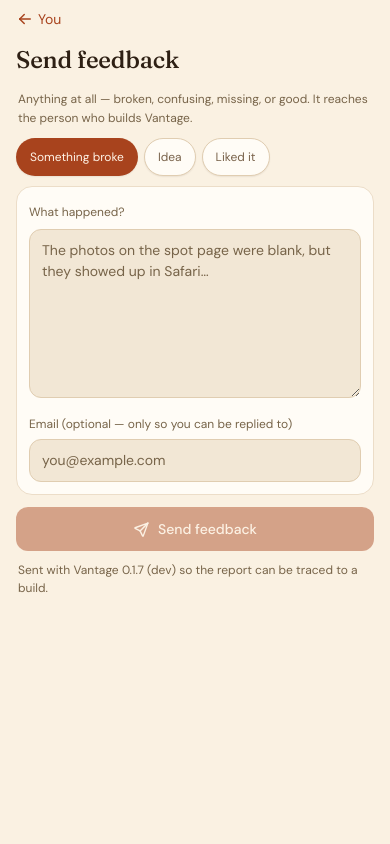
Test: Feedback › confirms it was sent, so nobody submits twice
Step 1. Type "Photos blank" into the text box labelled "What happened?" → (195, 314), box [29,229,361,398]
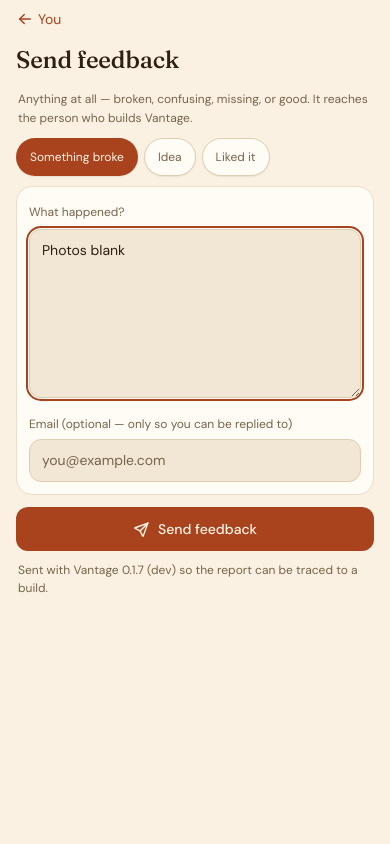
Step 2. Click the button "Send feedback" → (195, 529), box [16,507,374,551]
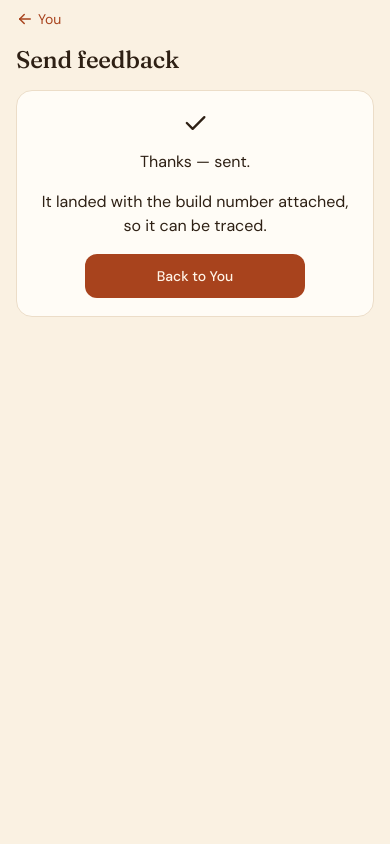
Expected: the text "Thanks — sent." is shown, [140,151,250,172]
